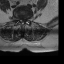CCS_normal: (21, 18, 23, 26)
LFS_severe_stenosis: (25, 16, 27, 22)
LLS_severe_stenosis: (23, 18, 25, 24)
RFS_severe_stenosis: (17, 16, 19, 22)
RLS_stenosis: (19, 17, 21, 24)
